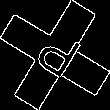P_SW: (26, 24, 84, 86)
